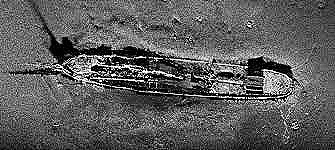ship: (52, 50, 295, 106)
